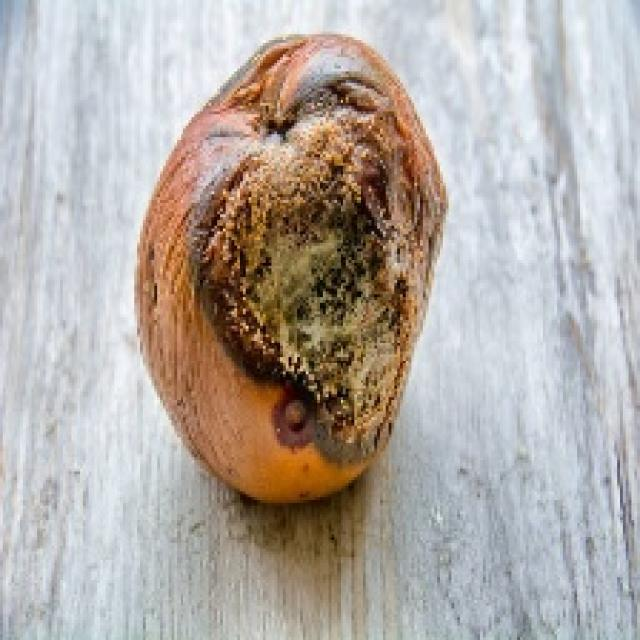rotten_apple: (140, 34, 440, 494)
